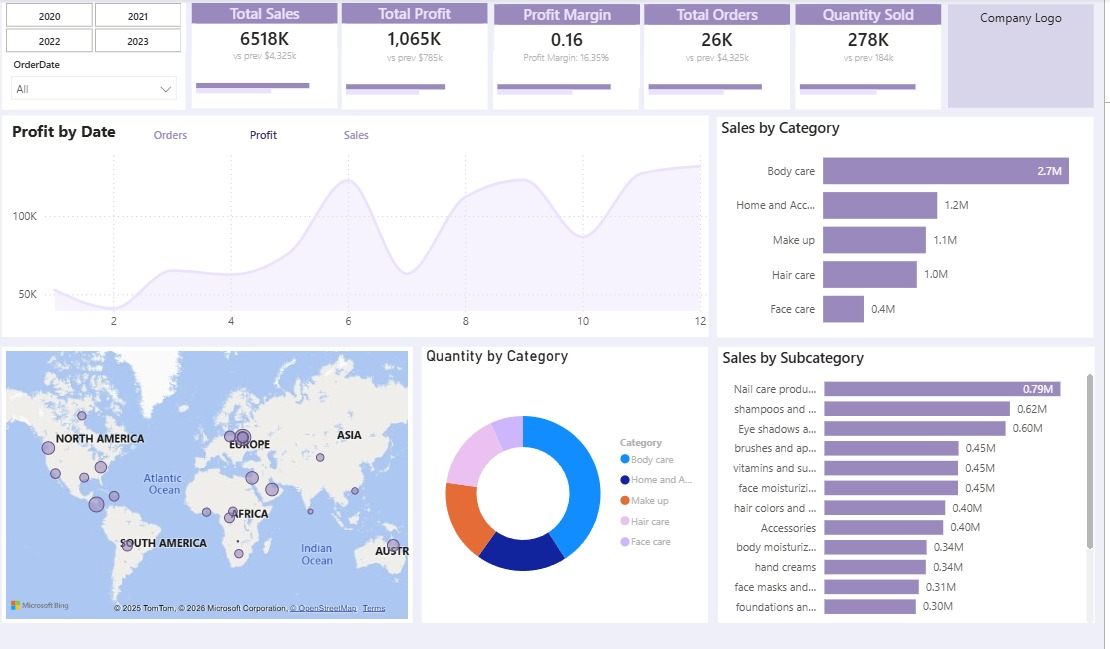

This screenshot's page, from the dashboard's own definition file:
{"tool":"powerbi","page":{"name":"Overview (E-Commerce)","canvas":[1280,720],"ordinal":0},"visuals":[{"type":"card","title":"Total Sales","fields":{"Values":["Sum(Sales Fact.Sales)"]},"box":[278.4,5.2,160,92],"z":0},{"type":"advancedSlicerVisual","fields":{"Values":["Date Dim.OrderYear"]},"box":[69.3,5.7,202.3,54.5],"z":1000},{"type":"slicer","fields":{"Values":["Date Dim.OrderDate"]},"box":[69.7,59.9,201.8,62.4],"z":2000},{"type":"clusteredBarChart","fields":{"Y":["Measure.Total Sales","Measure.Total Sales LY"]},"box":[278,55.9,160,64.8],"z":3000},{"type":"card","title":"Total Profit","fields":{"Values":["Measure.Total Profit"]},"box":[443.9,5.5,160,92],"z":4000},{"type":"card","title":"Profit Margin","fields":{"Values":["Measure.Profit Margin"]},"box":[610.2,7,160,92],"z":5000},{"type":"clusteredBarChart","fields":{"Y":["Measure.Total Sales","Measure.Total Sales LY"]},"box":[609.8,57.7,160,64.8],"z":6000},{"type":"card","title":"Total Orders","fields":{"Values":["Measure.Total Order"]},"box":[775.7,7,160,92],"z":7000},{"type":"clusteredBarChart","fields":{"Y":["Measure.Total Sales","Measure.Total Sales LY"]},"box":[775.2,57.7,160,64.8],"z":8000},{"type":"card","title":"Quantity Sold","fields":{"Values":["Measure.Quantity Sold"]},"box":[941.1,7,160,92],"z":9000},{"type":"clusteredBarChart","fields":{"Y":["Measure.Quantity Sold","Measure.Quantity Sold LY"]},"box":[940.7,57.7,160,64.8],"z":10000},{"type":"clusteredBarChart","fields":{"Y":["Measure.Total Profit","Measure.Total Profit LY"]},"box":[443.9,58.2,160.2,64.8],"z":11000},{"type":"map","fields":{"Category":["Geography Dim.Region"],"Size":["Measure.Total Profit"]},"box":[69.3,383,451.1,303.4],"z":12000},{"type":"donutChart","title":"Quantity by Category","fields":{"Category":["Product Dim.Category"],"Y":["Sum(Sales Fact.Quantity)"]},"box":[530.7,383,314.8,303.4],"z":13000},{"type":"barChart","title":"Sales by Category","fields":{"Y":["Sum(Sales Fact.Sales)"],"Category":["Product Dim.Category"]},"box":[855.2,130.9,413.6,242],"z":14000},{"type":"barChart","title":"Sales by Subcategory","fields":{"Category":["Product Dim.Subcategory"],"Y":["Sum(Sales Fact.Sales)"]},"box":[855.7,383,413.6,303.4],"z":15000},{"type":"areaChart","fields":{"Y":["Measure.Line_Chart_Measures"],"Category":["Date Dim.OrderMonth"]},"box":[69.3,129.5,776.1,243.2],"z":16000},{"type":"advancedSlicerVisual","fields":{"Values":["Line_Selection_Table.Type"]},"box":[203.4,130.7,309.1,34.1],"z":17000},{"type":"textbox","box":[1109.1,6.8,160.2,113.6],"z":18000}]}

Visuals, with their boxes on the page's 1280x720 design canvas (x1, y1, x2, y2). These are canvas units, not pixel positions in the 1110x649 screenshot, which may show the page scaled, cropped or inside an application window:
"Total Sales" card: 278/5/438/97
advancedSlicerVisual - Date Dim.OrderYear: 69/6/272/60
slicer - Date Dim.OrderDate: 70/60/272/122
clusteredBarChart - Measure.Total Sales x Measure.Total Sales LY: 278/56/438/121
"Total Profit" card: 444/6/604/98
"Profit Margin" card: 610/7/770/99
clusteredBarChart - Measure.Total Sales x Measure.Total Sales LY: 610/58/770/122
"Total Orders" card: 776/7/936/99
clusteredBarChart - Measure.Total Sales x Measure.Total Sales LY: 775/58/935/122
"Quantity Sold" card: 941/7/1101/99
clusteredBarChart - Measure.Quantity Sold x Measure.Quantity Sold LY: 941/58/1101/122
clusteredBarChart - Measure.Total Profit x Measure.Total Profit LY: 444/58/604/123
map - Geography Dim.Region x Measure.Total Profit: 69/383/520/686
"Quantity by Category" donutChart: 531/383/846/686
"Sales by Category" barChart: 855/131/1269/373
"Sales by Subcategory" barChart: 856/383/1269/686
areaChart - Measure.Line_Chart_Measures x Date Dim.OrderMonth: 69/130/845/373
advancedSlicerVisual - Line_Selection_Table.Type: 203/131/512/165
textbox: 1109/7/1269/120
